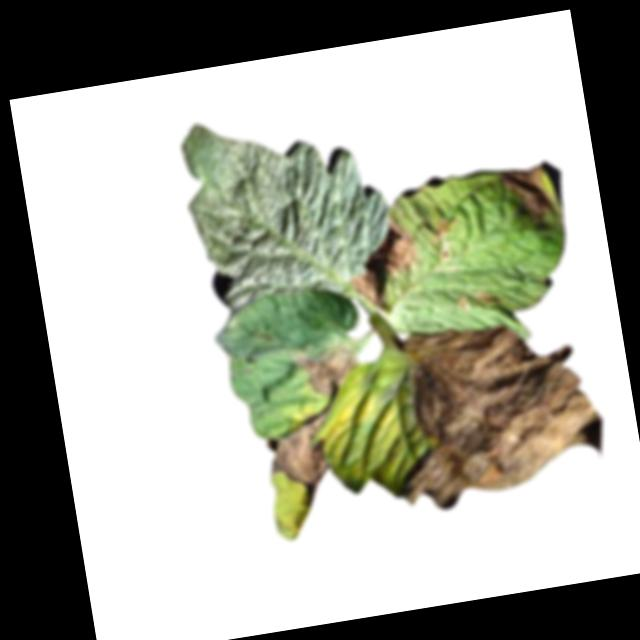Late_blight: (372, 304, 611, 517), (261, 408, 343, 508), (345, 215, 423, 309), (293, 341, 371, 403), (500, 162, 563, 228), (454, 284, 503, 314), (431, 213, 458, 261)
healthy: (175, 94, 399, 314)
